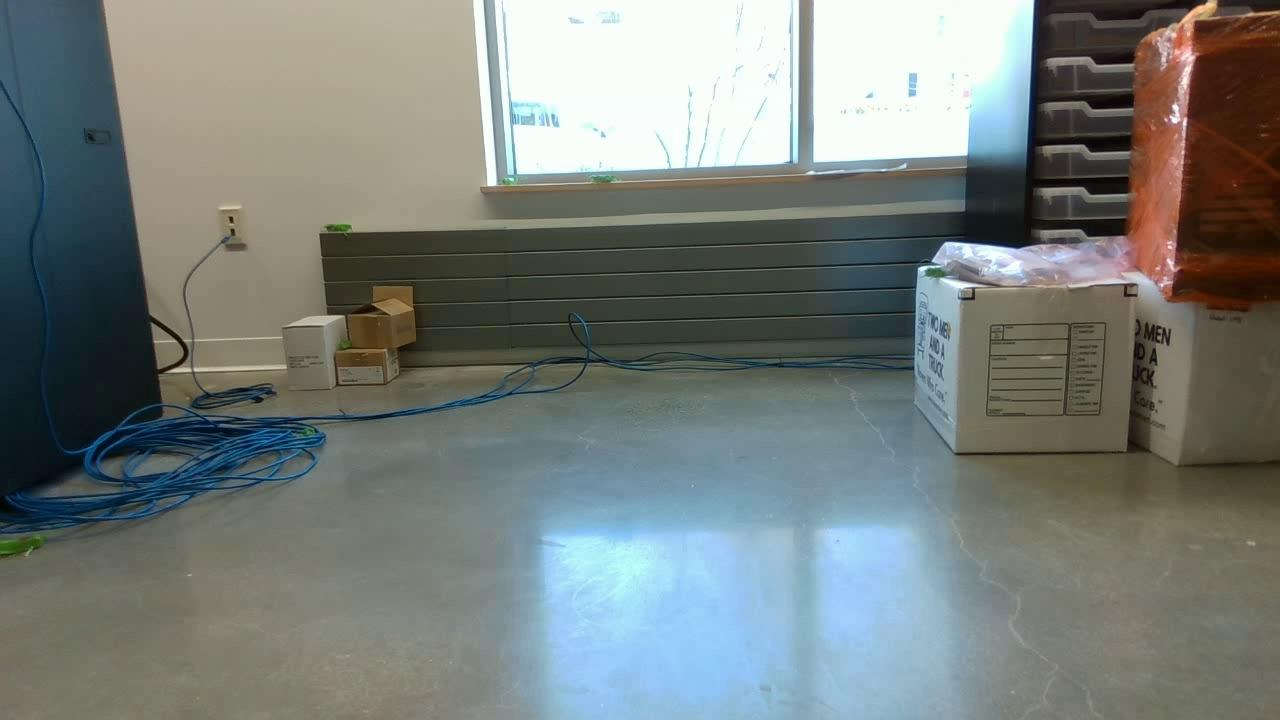grasshopper: (1, 519, 44, 562), (583, 169, 626, 188), (317, 218, 354, 237), (917, 261, 956, 279), (331, 332, 351, 359), (288, 428, 326, 441), (499, 173, 518, 188)
